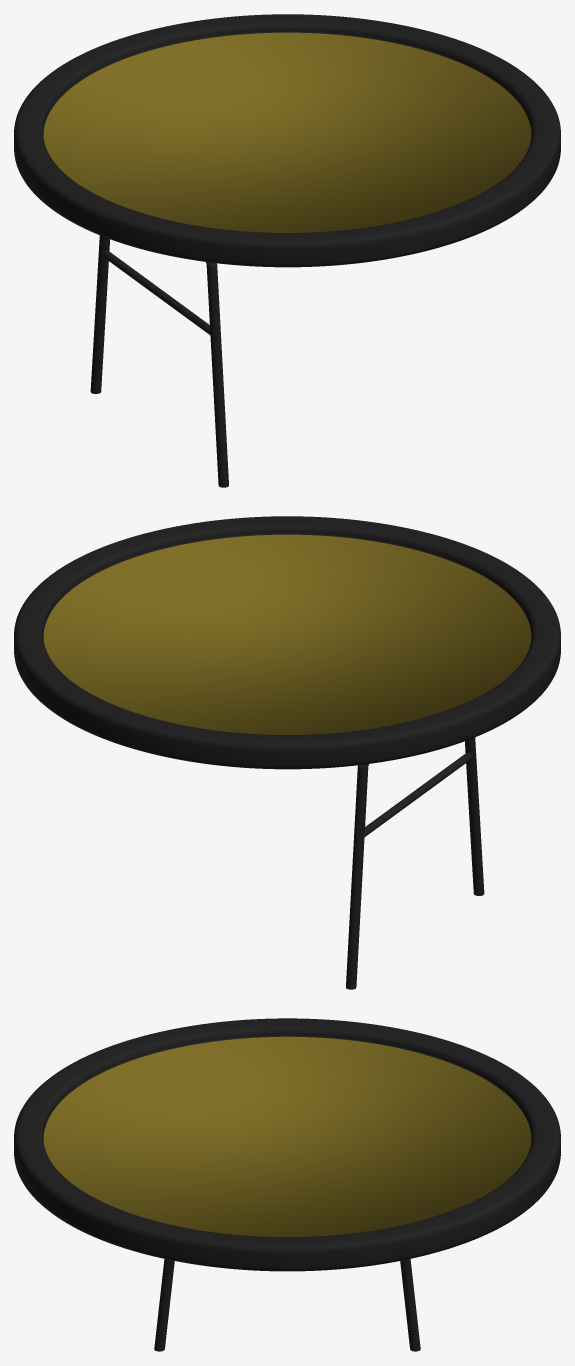
File: MIZUNO.glb
The picture shows the model from 3 angles, top to bottom: view 1: azimuth 30°, elevation 25°; view 2: azimuth 150°, elevation 25°; view 3: azimuth 270°, elevation 25°; orthographic projection.
Parts seen in each view (by area): view 1: Circle, Circle.001; view 2: Circle, Circle.001; view 3: Circle, Circle.001.
Boxes of the visible parts, x1,y1,x2,y2 form: Circle: [14, 14, 560, 267]; Circle.001: [90, 235, 228, 487]; Circle: [14, 516, 560, 769]; Circle.001: [346, 737, 484, 989]; Circle: [14, 1018, 560, 1271]; Circle.001: [154, 1259, 420, 1351].
Size of the model in its own units: 3.2 by 1.8 by 3.2.
